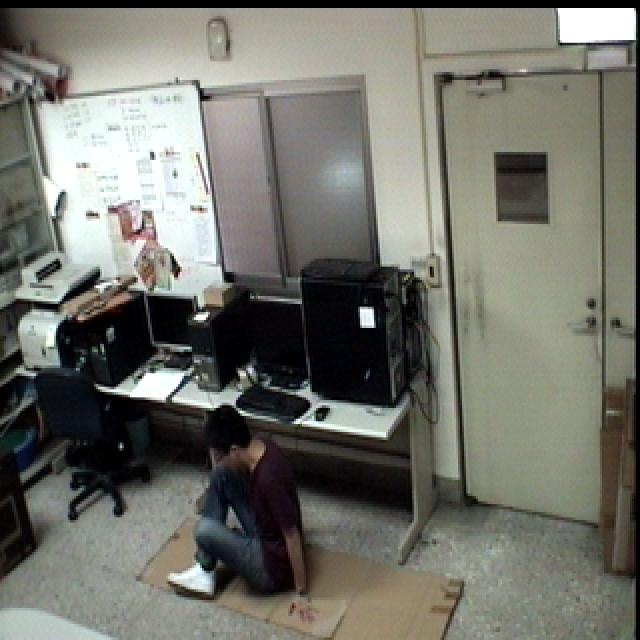sit: (165, 403, 324, 626)
